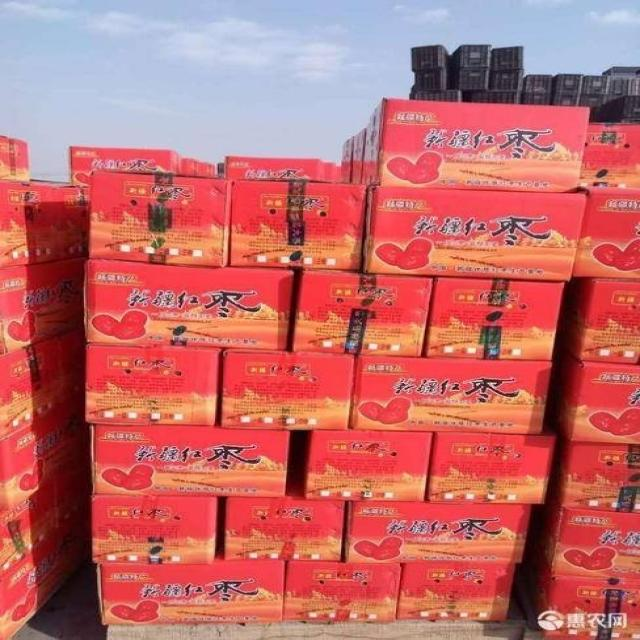box: (359, 185, 586, 283), (362, 98, 590, 192), (84, 258, 294, 350), (349, 355, 552, 434), (90, 423, 290, 497), (87, 171, 231, 269), (291, 268, 433, 358), (96, 558, 286, 625), (230, 179, 367, 270), (83, 342, 226, 427), (421, 277, 564, 360), (346, 501, 534, 564), (0, 392, 90, 518), (220, 347, 355, 430), (424, 421, 557, 505), (522, 535, 640, 628), (544, 340, 640, 444), (530, 491, 640, 581), (0, 322, 84, 439), (304, 430, 434, 502), (90, 493, 219, 563), (0, 255, 85, 354), (224, 496, 346, 561), (282, 560, 403, 623), (555, 277, 640, 365), (396, 563, 518, 623), (547, 435, 640, 513), (0, 528, 64, 640), (0, 482, 55, 581), (570, 208, 640, 280), (0, 183, 58, 268), (30, 179, 90, 260), (70, 146, 182, 186), (578, 122, 640, 194), (55, 493, 92, 581), (51, 455, 90, 529), (224, 157, 327, 182), (0, 136, 31, 184), (542, 628, 639, 640), (410, 45, 450, 71), (602, 96, 639, 123), (578, 75, 609, 107), (552, 75, 582, 107), (350, 128, 366, 185), (452, 44, 490, 68), (488, 69, 523, 92), (526, 76, 552, 106), (414, 68, 447, 91), (490, 46, 522, 69), (609, 78, 640, 101), (460, 68, 489, 91), (471, 91, 521, 104), (341, 137, 351, 184), (416, 91, 462, 101), (181, 159, 202, 177), (201, 160, 214, 178), (327, 162, 336, 182)
